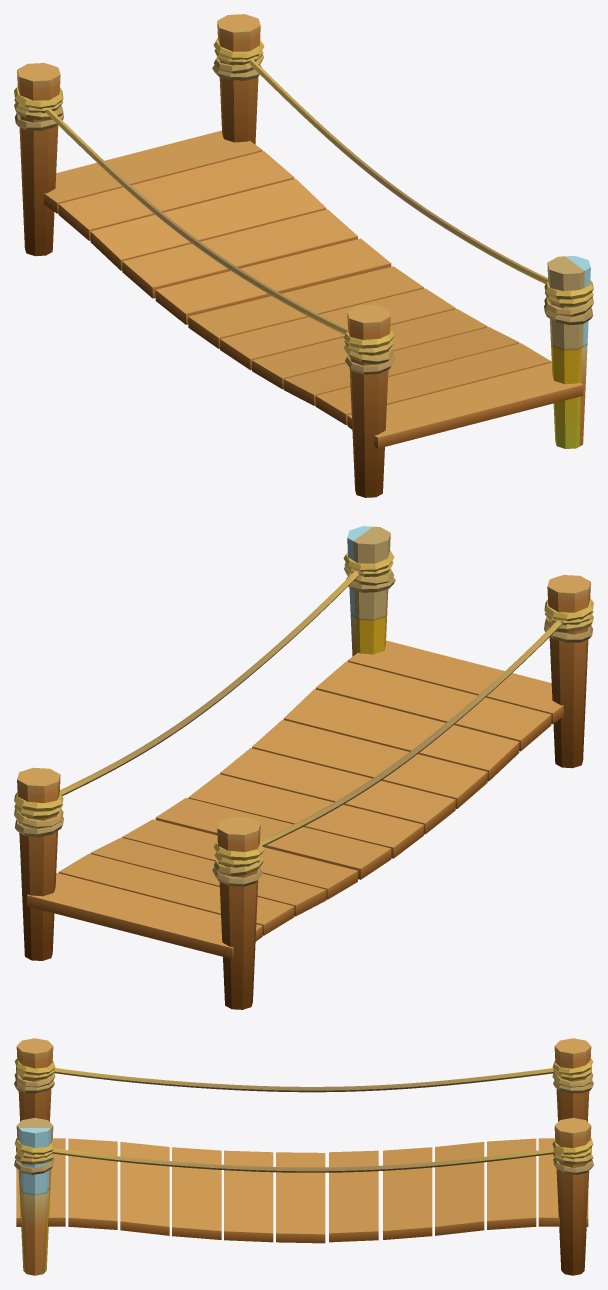
File: Bridge_large.fbx
3 views of the same model, one above another, from view 1: azimuth 30°, elevation 25°; view 2: azimuth 150°, elevation 25°; view 3: azimuth 270°, elevation 25° (orthographic). The views are drawn at different scales.
Parts seen in each view (by area): view 1: Bridge_Large; view 2: Bridge_Large; view 3: Bridge_Large.
Part boxes in pixels (x1,y1,x2,y2): Bridge_Large: (14, 14, 593, 497); Bridge_Large: (14, 526, 593, 1009); Bridge_Large: (14, 1038, 593, 1275).
Size of the model in its own units: 85.35 by 59.55 by 216.
